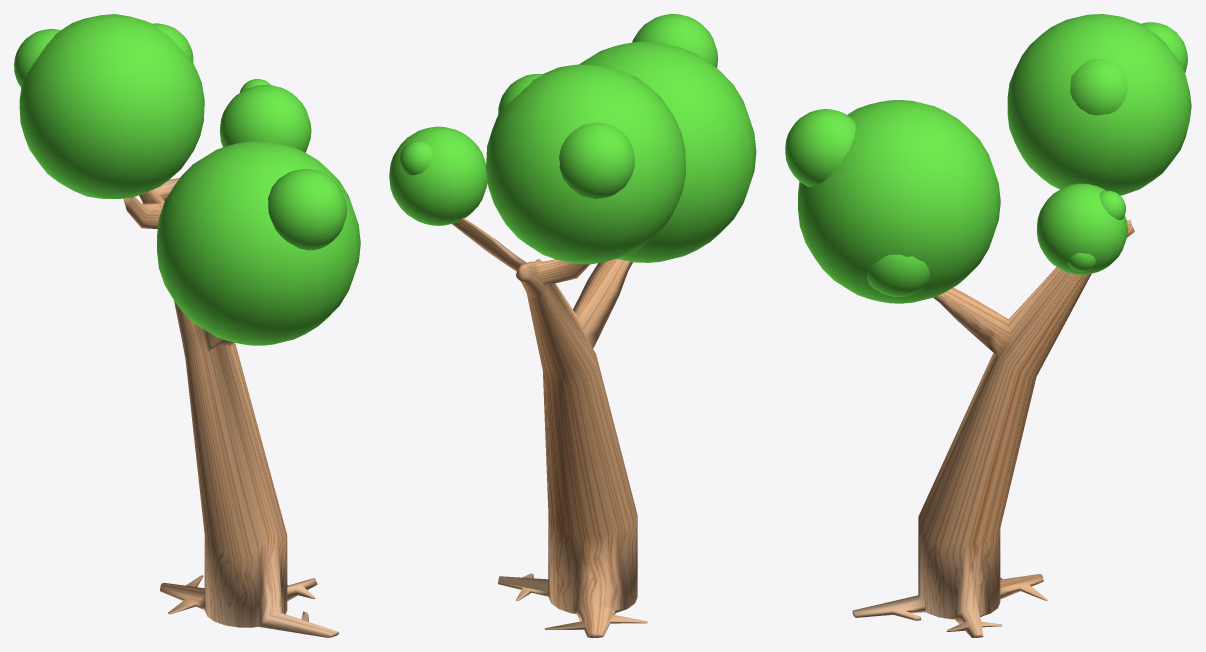
3 renders of one model, left to right at view 1: azimuth 30°, elevation 25°; view 2: azimuth 150°, elevation 25°; view 3: azimuth 270°, elevation 25°, orthographic. The views are drawn at different scales.
Parts seen in each view (by area): view 1: Cylinder.001; view 2: Cylinder.001; view 3: Cylinder.001.
Boxes of the visible parts, box(x1,y1,x2,y2) form: Cylinder.001: box(14, 14, 360, 637); Cylinder.001: box(389, 14, 756, 637); Cylinder.001: box(785, 14, 1191, 637).
Bounding box in the file's own units: 743 × 1472 × 988.
2 materials, 1 textured.
